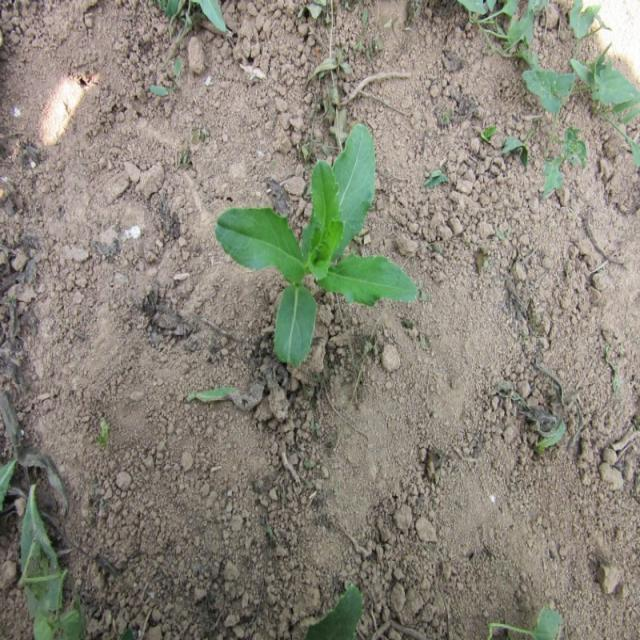cs: (212, 116, 422, 375)
